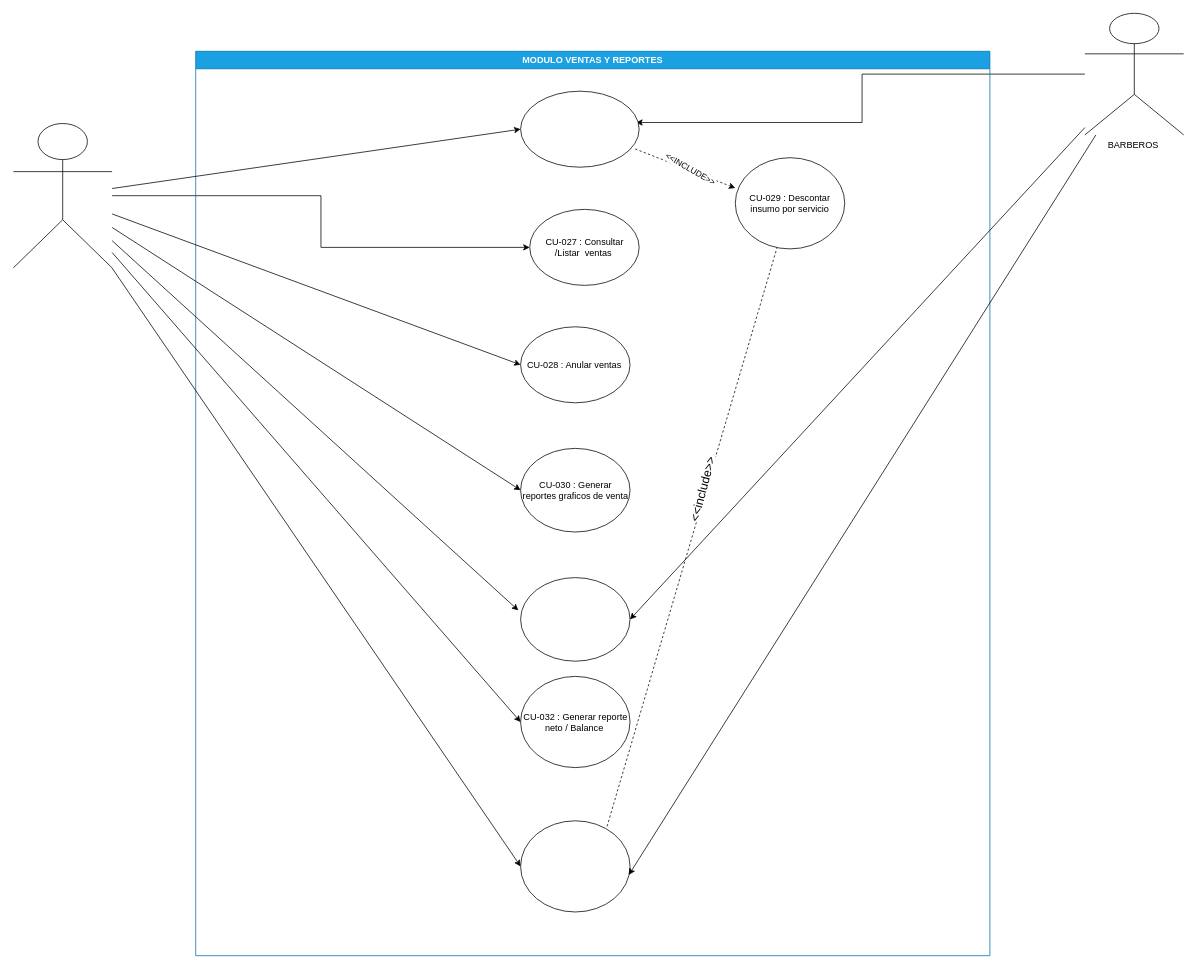
The diagram is 1197 pixels wide and 969 high, and some of its shapes have lost their labels. Each missing label, with the centre of its shape:
"ADMINISTRADOR" belongs at [62,195].
"CU-026 : Registrar venta de producto/servicio" belongs at [579,128].
"CU-031 : Generar comprobante de ventas" belongs at [575,619].
"CU-033 : Registro de venta directa" belongs at [575,866].
